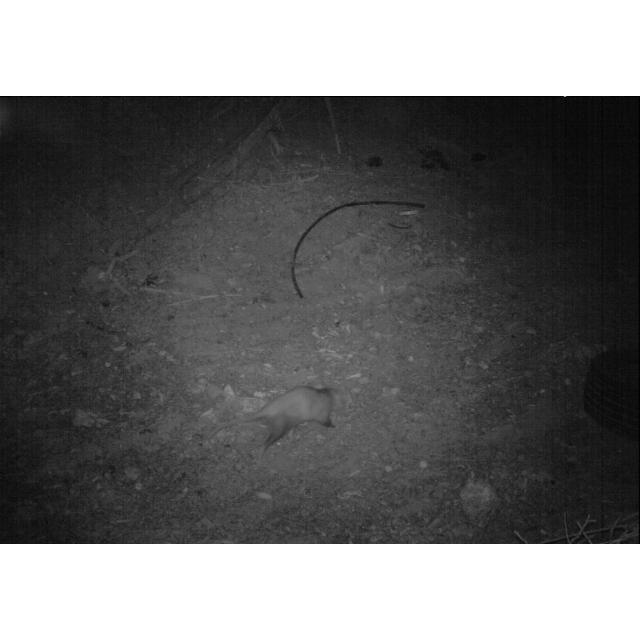animals: (206, 384, 338, 450)
